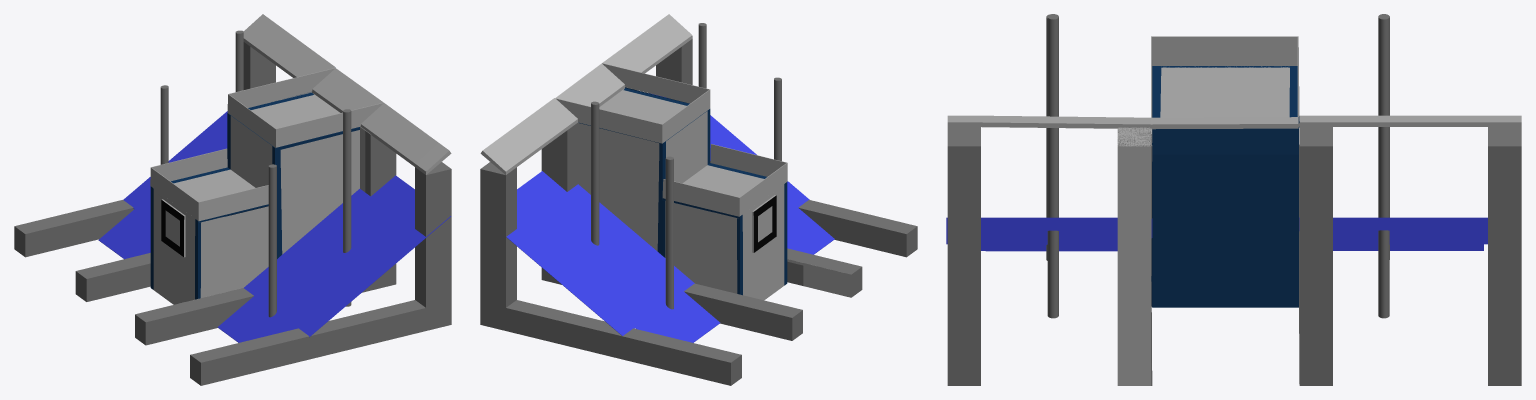
Rendered from GridSolitario.fbx.
3 renders of one model, left to right at view 1: azimuth 30°, elevation 25°; view 2: azimuth 150°, elevation 25°; view 3: azimuth 270°, elevation 25°, orthographic. The views are drawn at different scales.
Visible parts, largest first — view 1: Grids, Grids.002; view 2: Grids, Grids.002; view 3: Grids, Grids.002.
Part boxes in pixels (left/top/right/bottom): Grids: left=14, top=14, right=451, bottom=385; Grids.002: left=150, top=92, right=359, bottom=299; Grids: left=480, top=14, right=917, bottom=385; Grids.002: left=578, top=87, right=787, bottom=295; Grids: left=946, top=14, right=1521, bottom=385; Grids.002: left=1151, top=67, right=1297, bottom=306.
Bounding box in the file's own units: 143 × 113 × 185.
